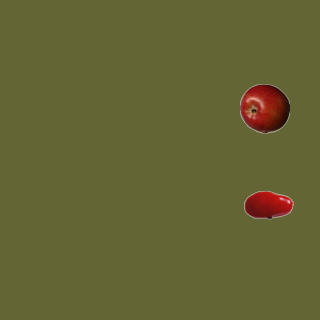Apple Braeburn: (239, 83, 289, 133)
Tomato 2: (243, 179, 293, 229)
